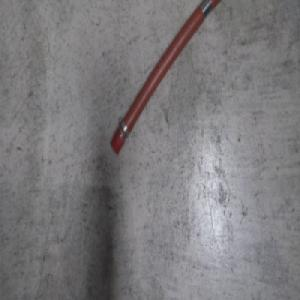Hose: (109, 0, 227, 159)
